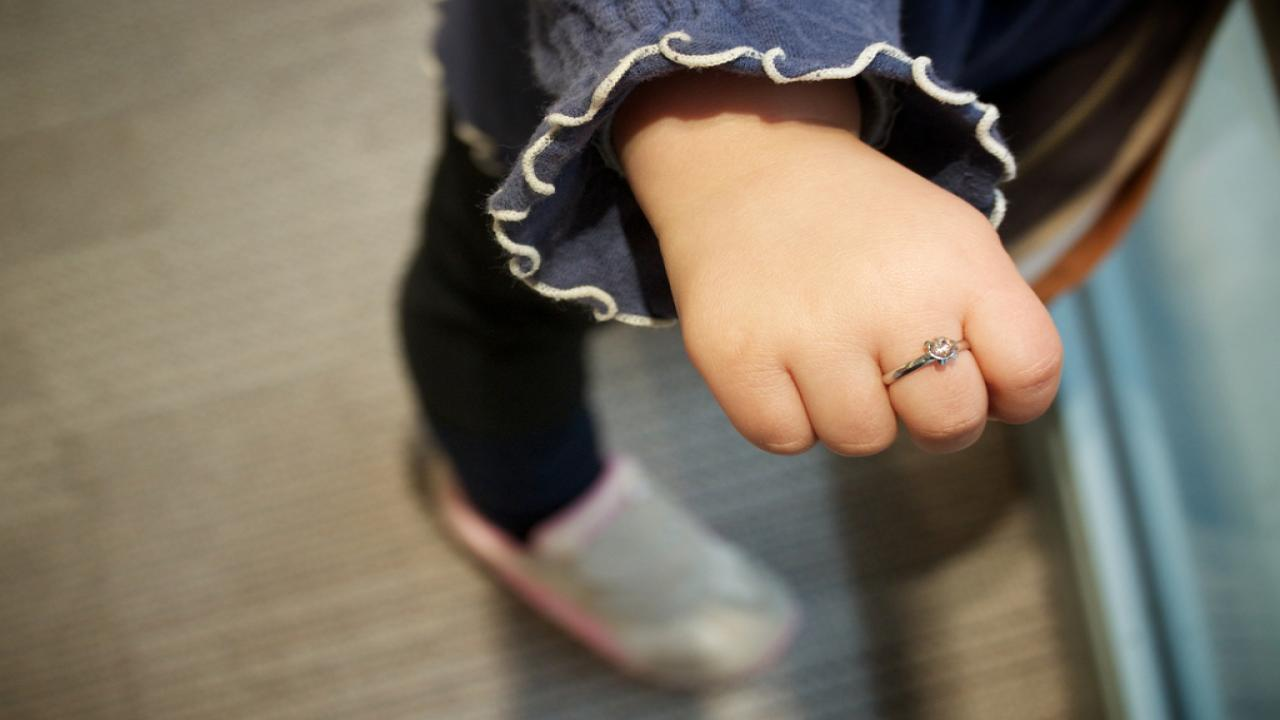ring: (882, 335, 972, 384)
